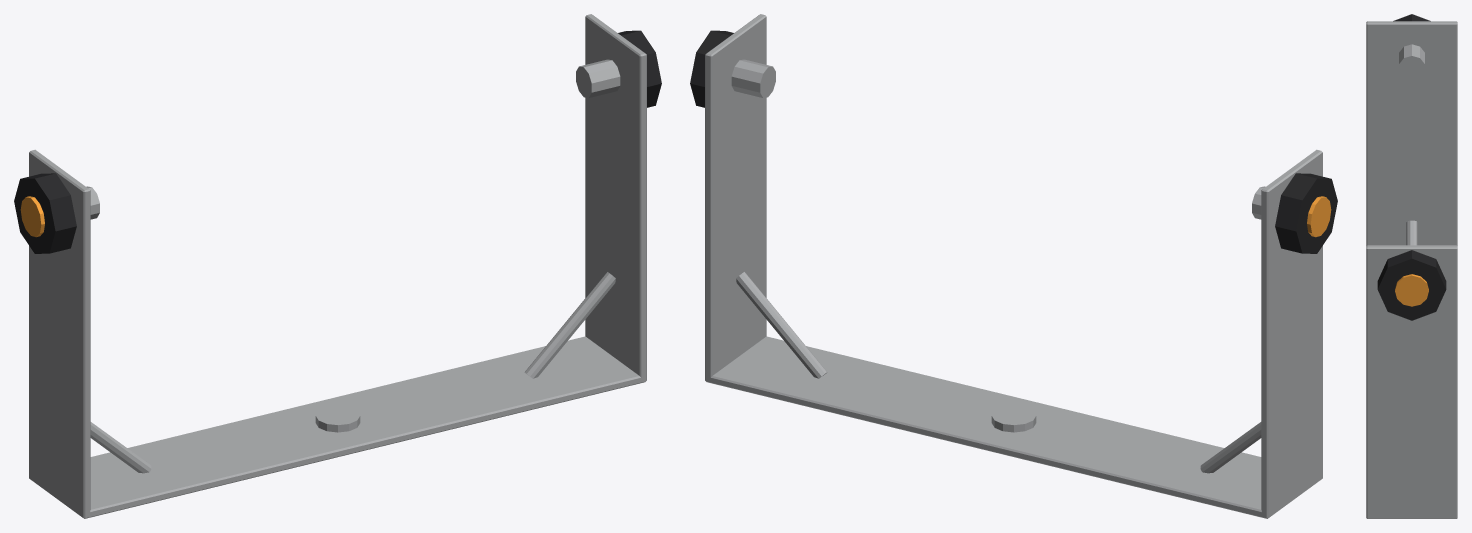
Rendered from csc_blinder_x4_base.obj.
3 renders of one model, left to right at view 1: azimuth 30°, elevation 25°; view 2: azimuth 150°, elevation 25°; view 3: azimuth 270°, elevation 25°, orthographic. The views are drawn at different scales.
Visible parts, largest first — view 1: base_csc_adafb1, base_csc_272729, base_csc_f9a238; view 2: base_csc_adafb1, base_csc_272729, base_csc_f9a238; view 3: base_csc_adafb1, base_csc_272729, base_csc_f9a238.
Part boxes in pixels (x1,y1,x2,y2): base_csc_adafb1: (29, 14, 646, 518); base_csc_272729: (14, 30, 661, 253); base_csc_f9a238: (20, 196, 44, 237); base_csc_adafb1: (705, 14, 1322, 518); base_csc_272729: (690, 30, 1337, 253); base_csc_f9a238: (1307, 196, 1331, 237); base_csc_adafb1: (1366, 21, 1457, 518); base_csc_272729: (1377, 14, 1446, 320); base_csc_f9a238: (1395, 274, 1428, 306).
Bounding box in the file's own units: 1.13 × 0.5763 × 0.1762.
